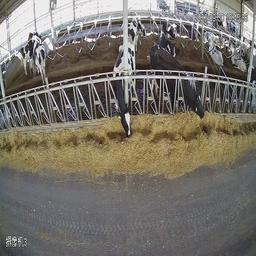cow: (149, 42, 201, 137), (113, 43, 137, 140), (31, 41, 48, 87), (20, 40, 40, 76), (158, 27, 176, 59), (230, 47, 247, 73), (127, 15, 139, 51), (209, 39, 224, 67)
